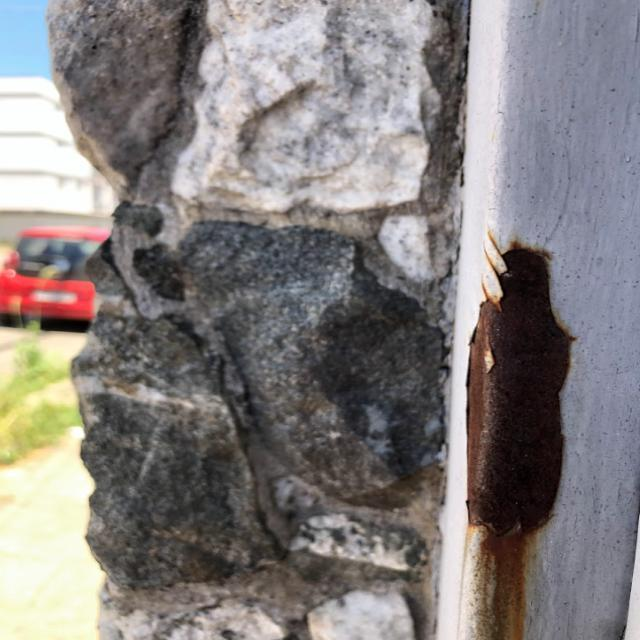Corrosion: (455, 231, 576, 639)
